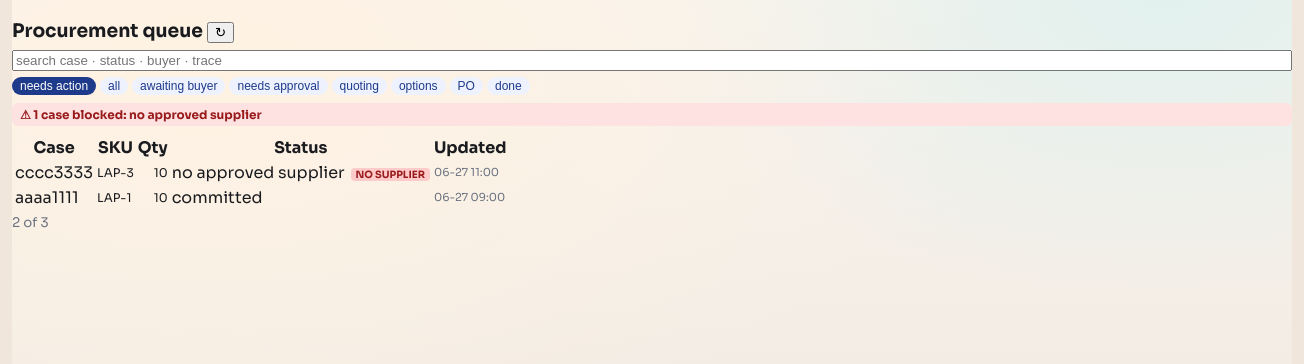
Test: CaseQueue › shows every case under the "all" chip, newest-first
Click the button with test id "op-chip-all".
click(114, 86)  # box left=100, top=77, right=128, bottom=95
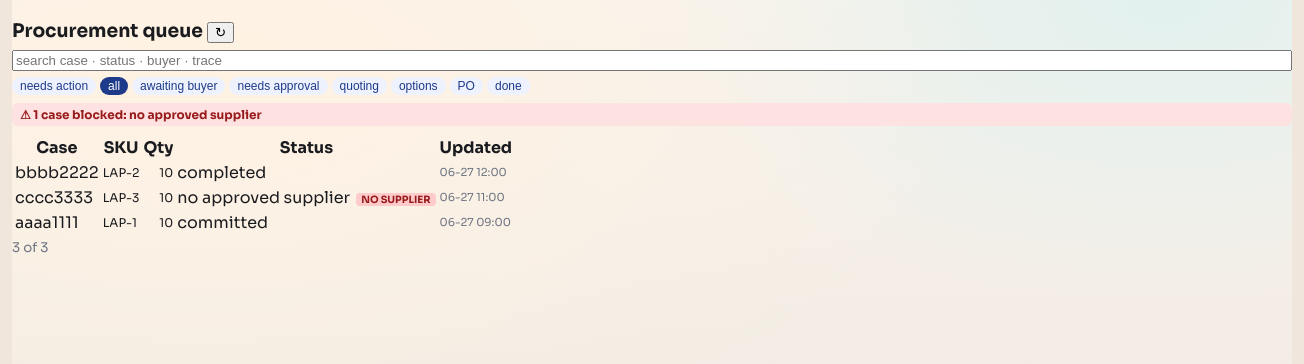
Check: the number of rows with test id "op-queue-row" is 3, box left=14, top=161, right=513, bottom=184; left=14, top=186, right=513, bottom=209; left=14, top=211, right=513, bottom=234
Check: the text "bbbb2222" is shown, box left=14, top=161, right=100, bottom=184
